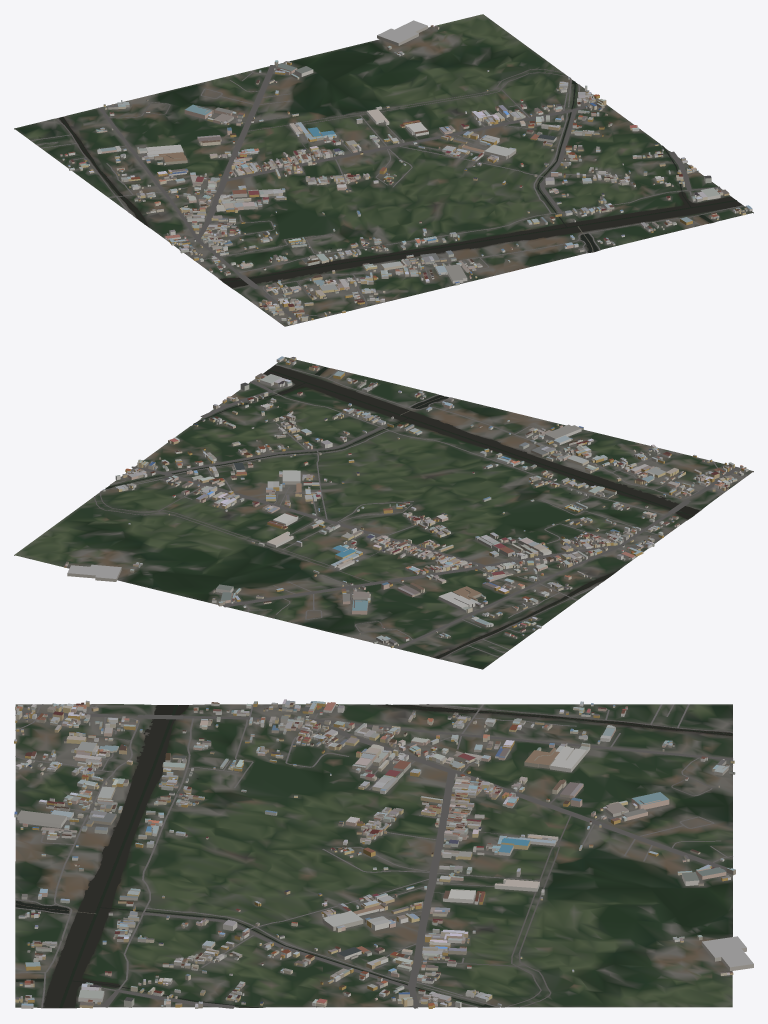
3 views of the same model, one above another, from view 1: azimuth 30°, elevation 25°; view 2: azimuth 150°, elevation 25°; view 3: azimuth 270°, elevation 25° (orthographic). The views are drawn at different scales.
Visible parts, largest first — view 1: ground, buildings, roads, water; view 2: ground, buildings, roads, water; view 3: ground, buildings, roads, water.
Boxes of the visible parts, x1,y1,x2,y2 form: ground: [14, 14, 753, 326]; buildings: [60, 20, 752, 324]; roads: [30, 65, 743, 323]; water: [59, 80, 742, 287]; ground: [14, 357, 753, 669]; buildings: [64, 356, 748, 647]; roads: [94, 364, 747, 658]; water: [105, 365, 699, 658]; ground: [15, 704, 732, 1008]; buildings: [14, 699, 753, 1008]; roads: [15, 704, 732, 1008]; water: [15, 704, 732, 1007].
Bounding box in the file's own units: 1413 × 19.35 × 1445.
